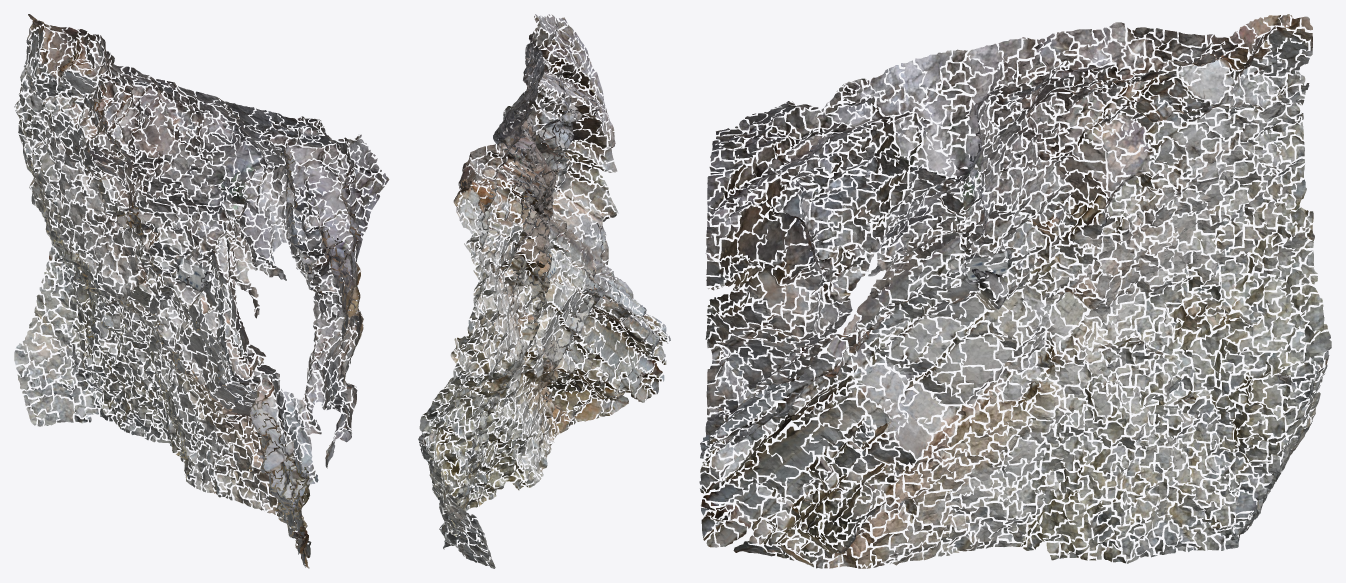
Rendered from gst2.glb.
3 renders of one model, left to right at view 1: azimuth 30°, elevation 25°; view 2: azimuth 150°, elevation 25°; view 3: azimuth 270°, elevation 25°, orthographic. The views are drawn at different scales.
Bounding box in the file's own units: 1.51 × 3.9 × 4.4.
Materials: 1 (1 with a texture image).
